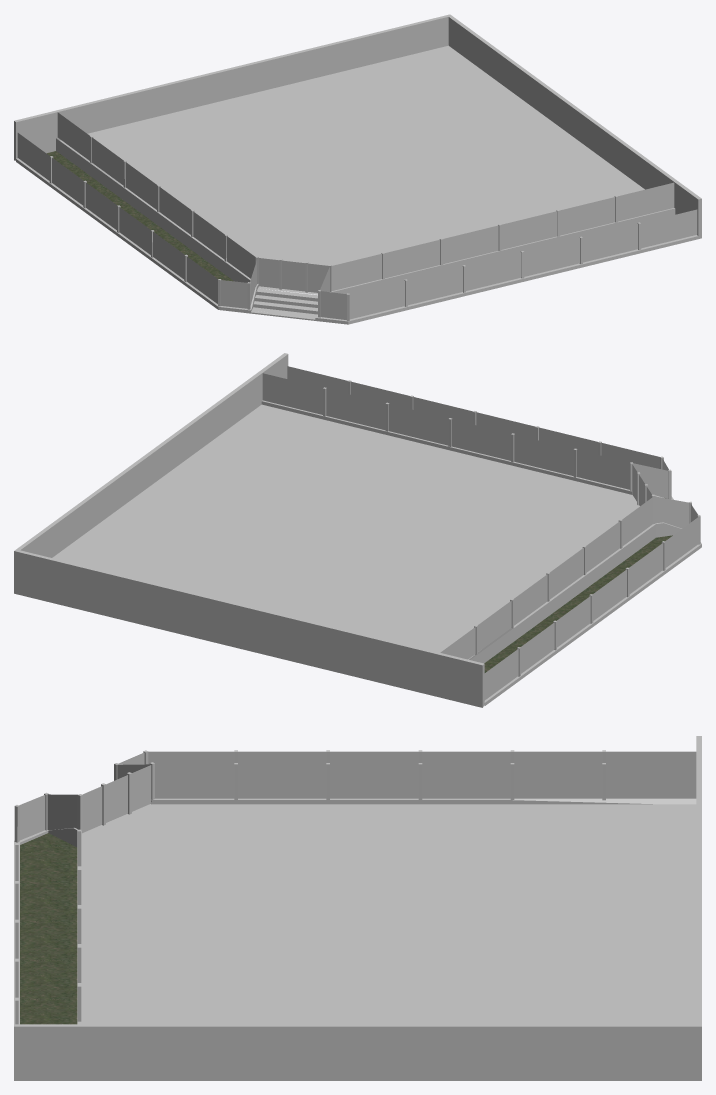
The picture shows the model from 3 angles, top to bottom: view 1: azimuth 30°, elevation 25°; view 2: azimuth 150°, elevation 25°; view 3: azimuth 270°, elevation 25°; orthographic projection. The views are drawn at different scales.
Visible parts, largest first — view 1: Base-17; view 2: Base-17; view 3: Base-17.
Part boxes in pixels (x1,y1,x2,y2): Base-17: [14, 14, 701, 324]; Base-17: [14, 353, 701, 707]; Base-17: [14, 736, 701, 1080].
Size of what is drawn, in the model's own units: 36 by 3.18 by 36.
